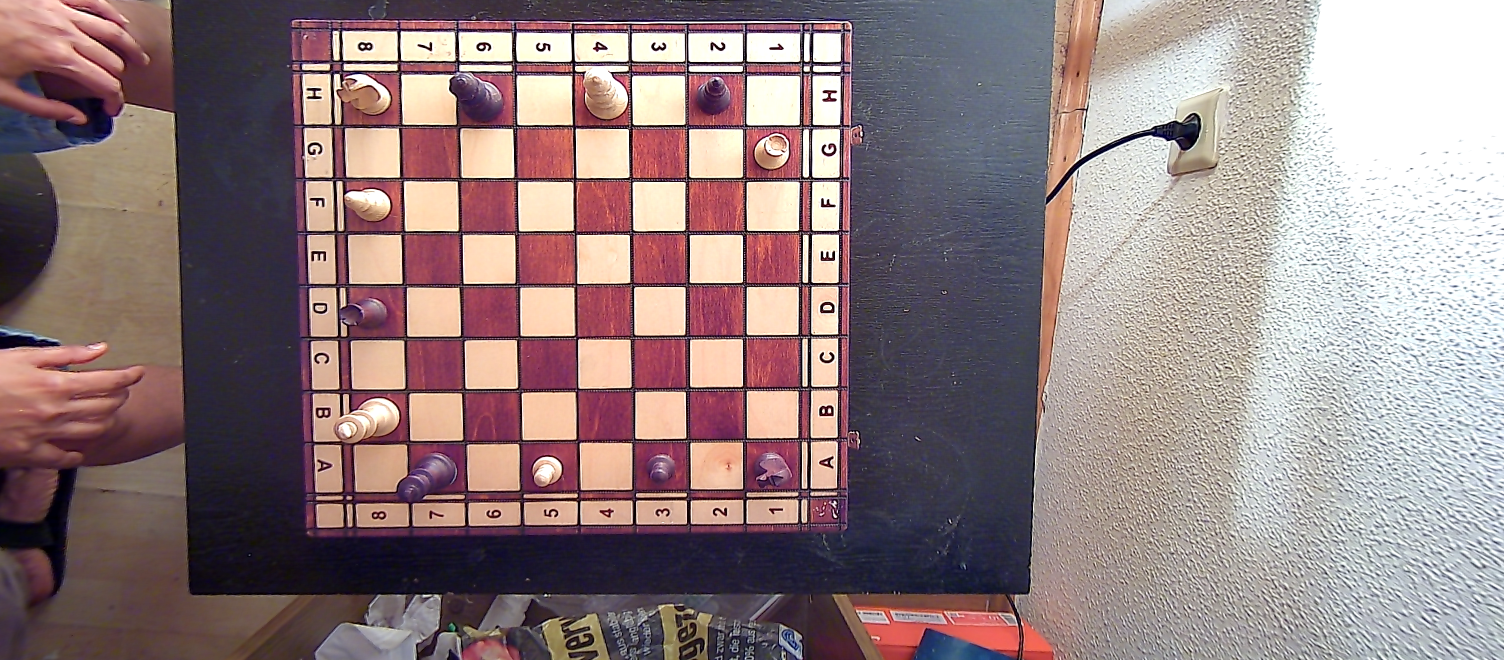black-bishop: (692, 74, 738, 118)
black-king: (395, 452, 458, 504)
black-knight: (751, 447, 795, 491)
black-pawn: (646, 450, 678, 492)
black-queen: (447, 68, 507, 123)
black-rook: (337, 297, 386, 331)
white-bishop: (341, 185, 394, 224)
white-king: (334, 398, 400, 442)
white-knight: (333, 72, 393, 118)
white-pawn: (527, 454, 564, 488)
white-queen: (580, 65, 628, 122)
white-rook: (751, 130, 793, 173)
